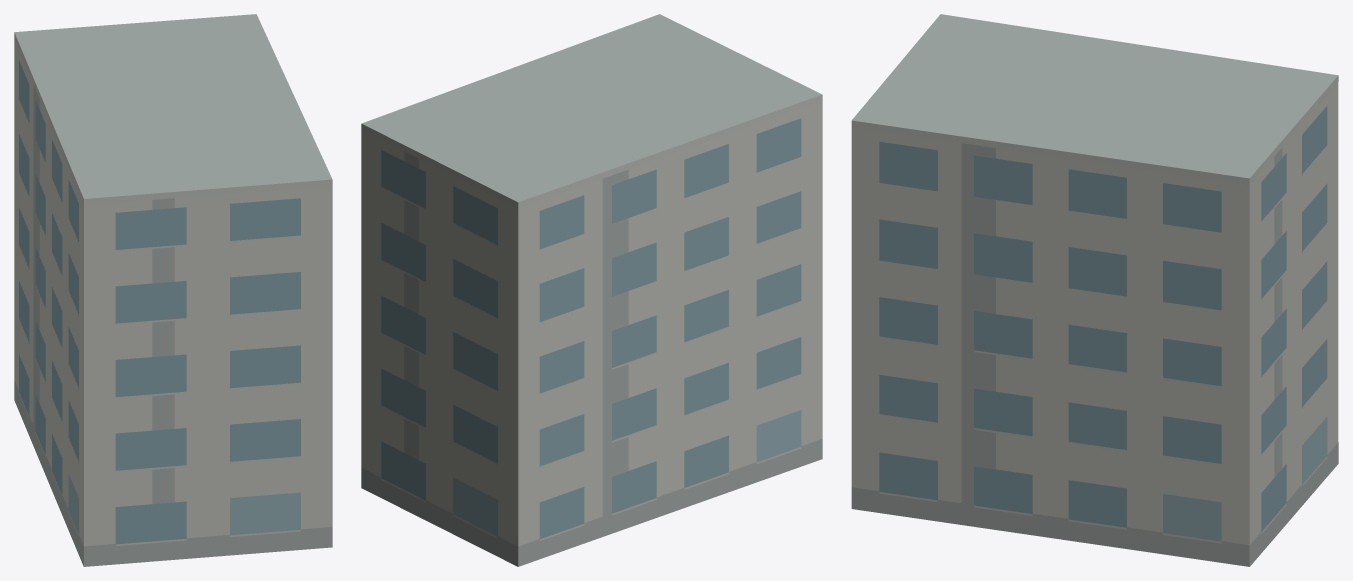
Rendered from survey-upis-32953092.glb.
3 renders of one model, left to right at view 1: azimuth 30°, elevation 25°; view 2: azimuth 150°, elevation 25°; view 3: azimuth 270°, elevation 25°, orthographic. The views are drawn at different scales.
Visible parts, largest first — view 1: survey-upis-32953092.tmp; view 2: survey-upis-32953092.tmp; view 3: survey-upis-32953092.tmp.
Part boxes in pixels (left/top/right/bottom): survey-upis-32953092.tmp: left=14, top=14, right=332, bottom=566; survey-upis-32953092.tmp: left=361, top=14, right=822, bottom=566; survey-upis-32953092.tmp: left=851, top=14, right=1338, bottom=566.
Size of the model in its own units: 12.9 by 14.2 by 16.14.
